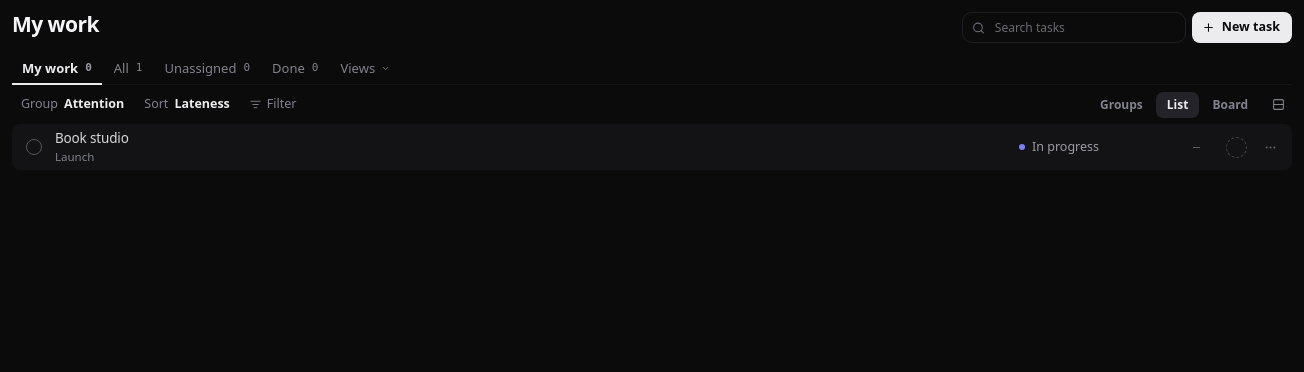
Test: moving a task to a folder from the Triage row menu › surfaces a failed folder fetch inside the submenu instead of blanking the list
The width and height of the screenshot is (1304, 372).
Check: the text "Book studio" is shown, box [55, 128, 129, 146]
Click the button named "Task actions" at (1270, 147), box [1258, 135, 1282, 159]
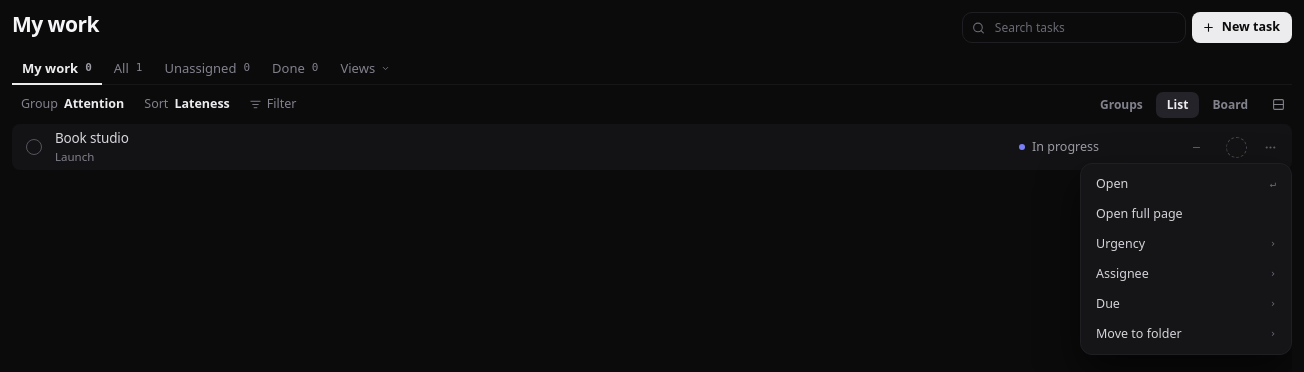
Click the menu item "Move to folder ›" at (1139, 333), box [1096, 325, 1276, 342]
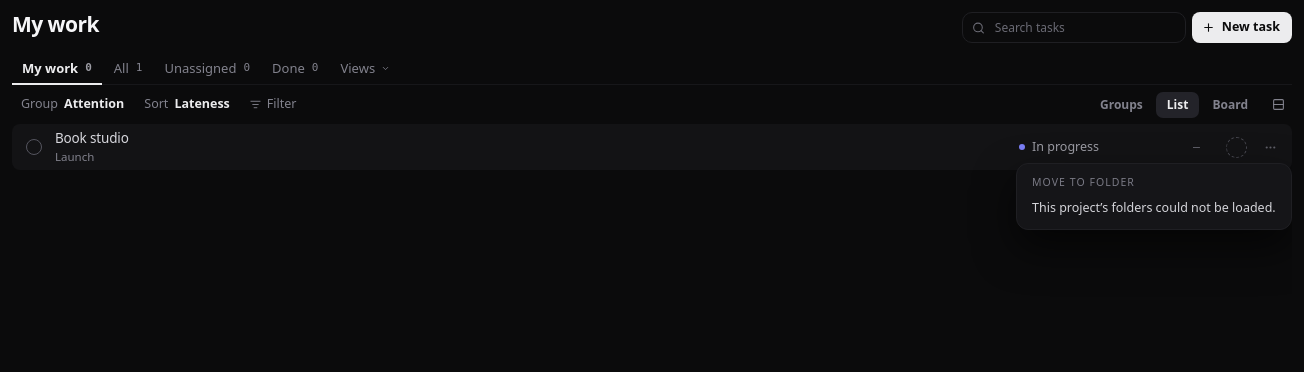
Check: the text "This project’s folders could not be loaded." is shown, box [1032, 199, 1276, 218]
